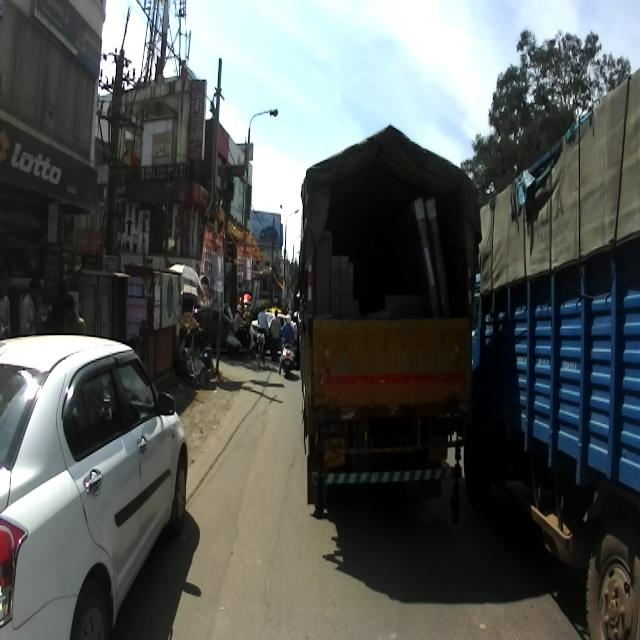Car: (250, 311, 288, 351)
Car_Maruti-Suzuki: (0, 332, 188, 639)
scooter: (227, 319, 256, 358), (280, 330, 294, 377)
truck: (462, 51, 640, 639), (290, 123, 479, 525)
